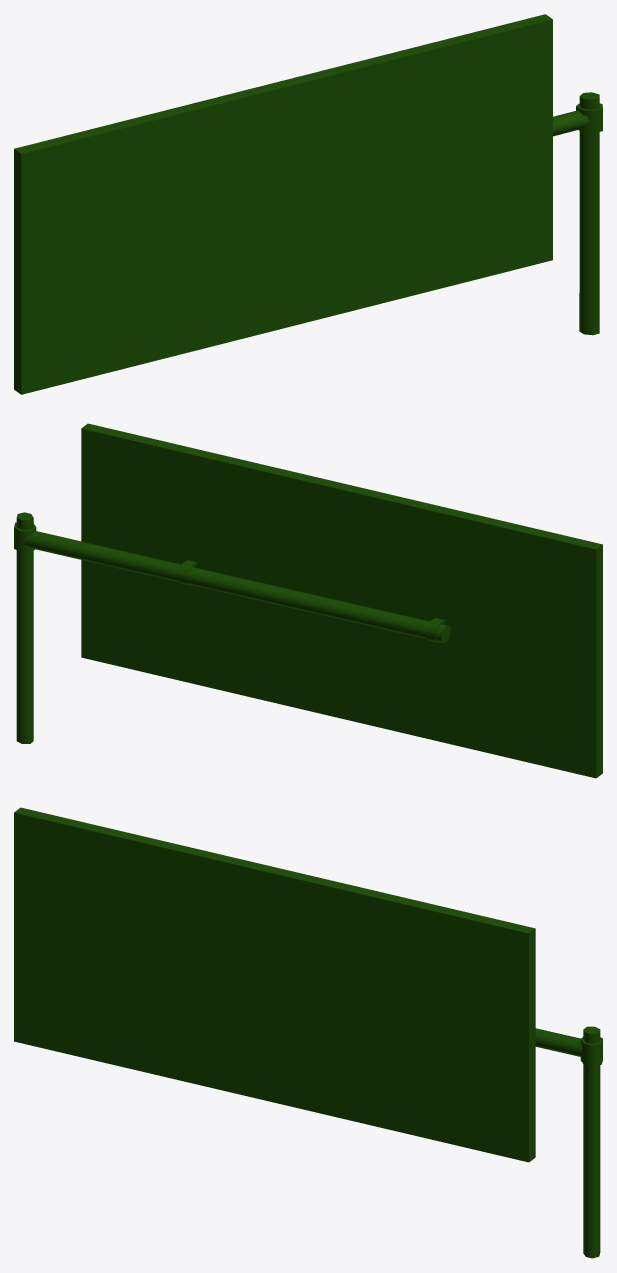
File: T2_SpeedSigns3R.fbx
The picture shows the model from 3 angles, top to bottom: view 1: azimuth 30°, elevation 25°; view 2: azimuth 150°, elevation 25°; view 3: azimuth 330°, elevation 25°; orthographic projection. The views are drawn at different scales.
Parts seen in each view (by area): view 1: T2_SpeedSigns3R; view 2: T2_SpeedSigns3R; view 3: T2_SpeedSigns3R.
Part boxes in pixels (left/top/right/bottom): T2_SpeedSigns3R: left=14, top=14, right=602, bottom=394; T2_SpeedSigns3R: left=14, top=423, right=602, bottom=778; T2_SpeedSigns3R: left=14, top=807, right=602, bottom=1258.
Bounding box in the file's own units: 0.9155 × 0.489 × 0.069.
